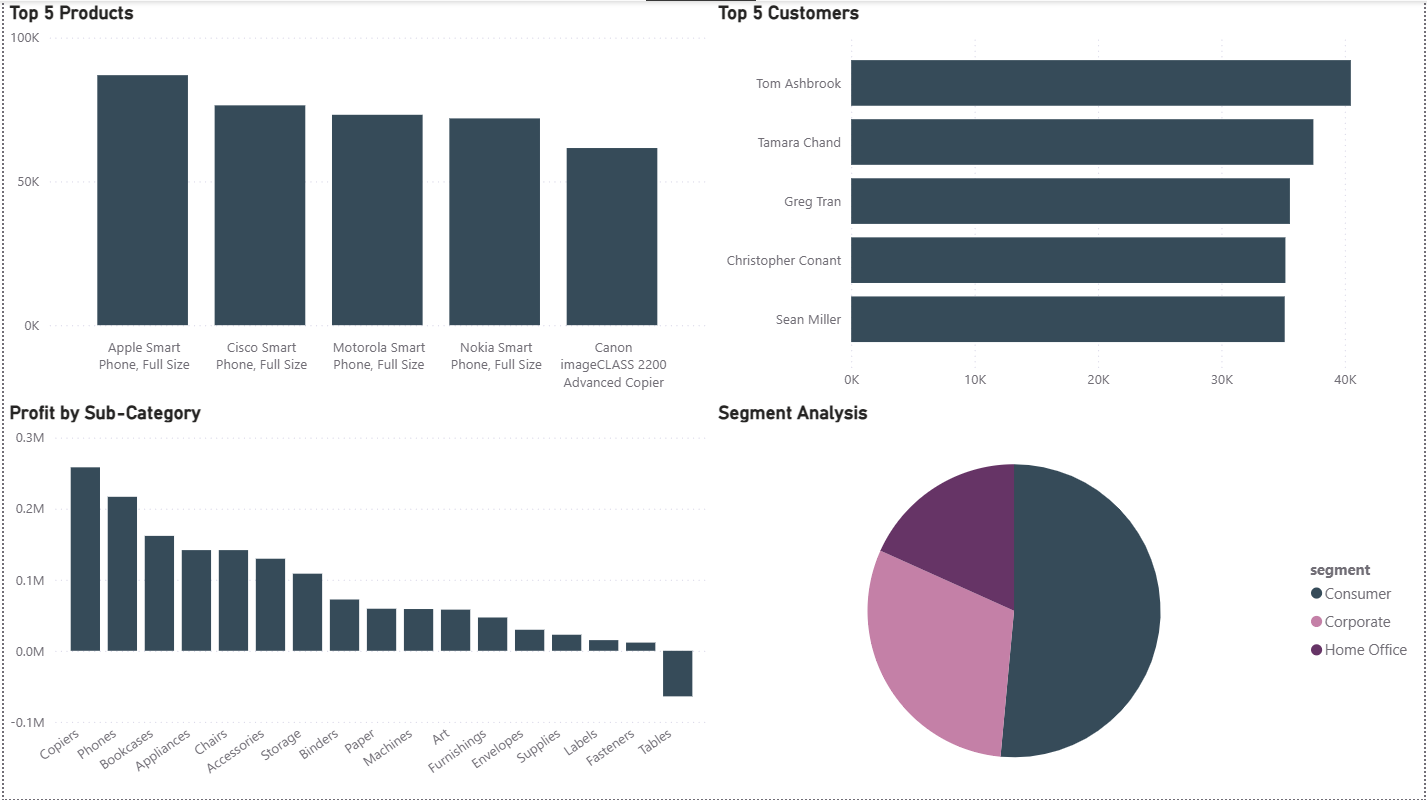

This screenshot's page, from the dashboard's own definition file:
{"tool":"powerbi","page":{"name":"Product & Customer Insights","canvas":[1280,720],"ordinal":2},"visuals":[{"type":"clusteredColumnChart","title":"Top 5 Products","fields":{"Y":["Sum(Dataset, L1 Task 1.sales)"],"Category":["Dataset, L1 Task 1.product_name"]},"box":[0,0,639.5,359.5],"z":0},{"type":"pieChart","title":"Segment Analysis","fields":{"Category":["Dataset, L1 Task 1.segment"],"Y":["Sum(Dataset, L1 Task 1.sales)"]},"box":[639.5,360.7,640.8,359.5],"z":1},{"type":"clusteredColumnChart","title":"Profit by Sub-Category","fields":{"Category":["Dataset, L1 Task 1.sub_category"],"Y":["Sum(Dataset, L1 Task 1.profit)"]},"box":[0,360.7,639.5,359.5],"z":2},{"type":"clusteredBarChart","title":"Top 5 Customers","fields":{"Y":["Sum(Dataset, L1 Task 1.sales)"],"Category":["Dataset, L1 Task 1.customer_name"]},"box":[639.5,0,640.8,359.5],"z":3}]}

Visuals, with their boxes in screenshot pixels (x1, y1, x2, y2), scaled from the page's 1280x720 canvas onto the 1427x802 screenshot:
"Top 5 Products" clusteredColumnChart: (left=0, top=0, right=713, bottom=400)
"Segment Analysis" pieChart: (left=713, top=402, right=1426, bottom=801)
"Profit by Sub-Category" clusteredColumnChart: (left=0, top=402, right=713, bottom=801)
"Top 5 Customers" clusteredBarChart: (left=713, top=0, right=1426, bottom=400)
